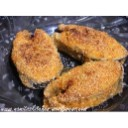seerfish: (42, 59, 122, 112), (52, 21, 126, 61), (13, 31, 61, 83)
